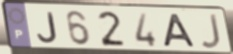2: (96, 9, 129, 48)
4: (133, 11, 158, 49)
6: (64, 9, 92, 47)
A: (161, 13, 198, 49)
J: (199, 13, 223, 51), (36, 11, 59, 45)
